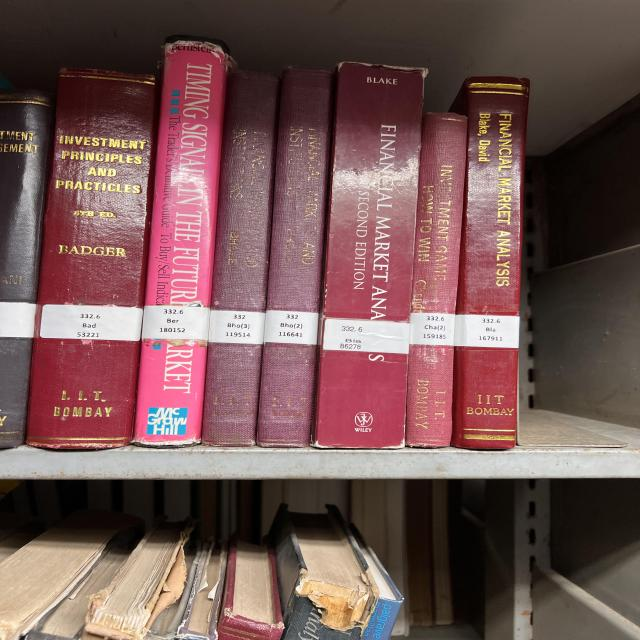Book: (27, 69, 157, 449), (313, 62, 427, 449), (133, 38, 230, 446), (257, 68, 333, 448), (202, 70, 278, 446), (452, 76, 528, 449), (407, 112, 467, 448)
Label: (40, 304, 143, 341), (323, 319, 410, 354), (142, 305, 210, 340), (453, 315, 520, 349), (208, 310, 265, 345), (263, 310, 318, 345), (410, 312, 455, 346)
